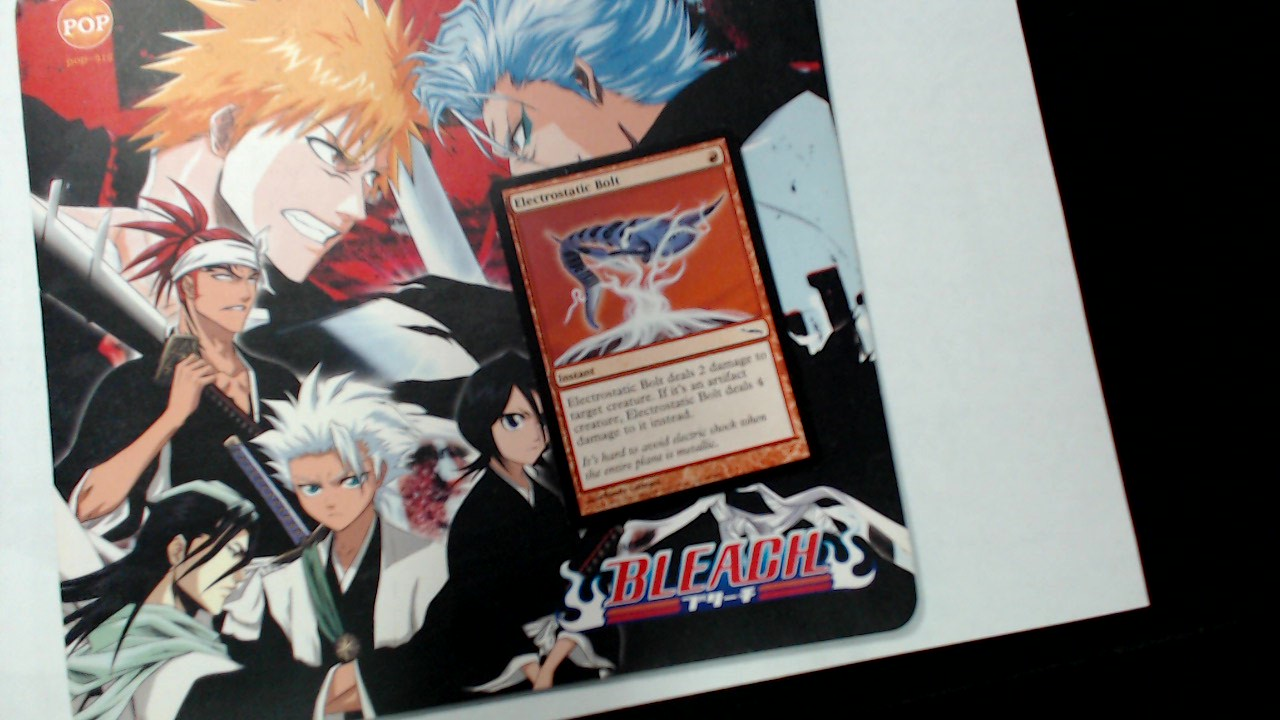MTG Card: (482, 131, 823, 530)
